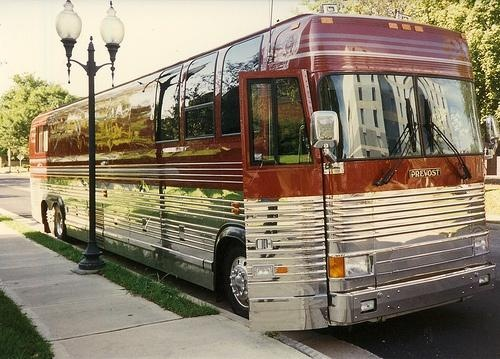bus: (29, 14, 497, 332)
